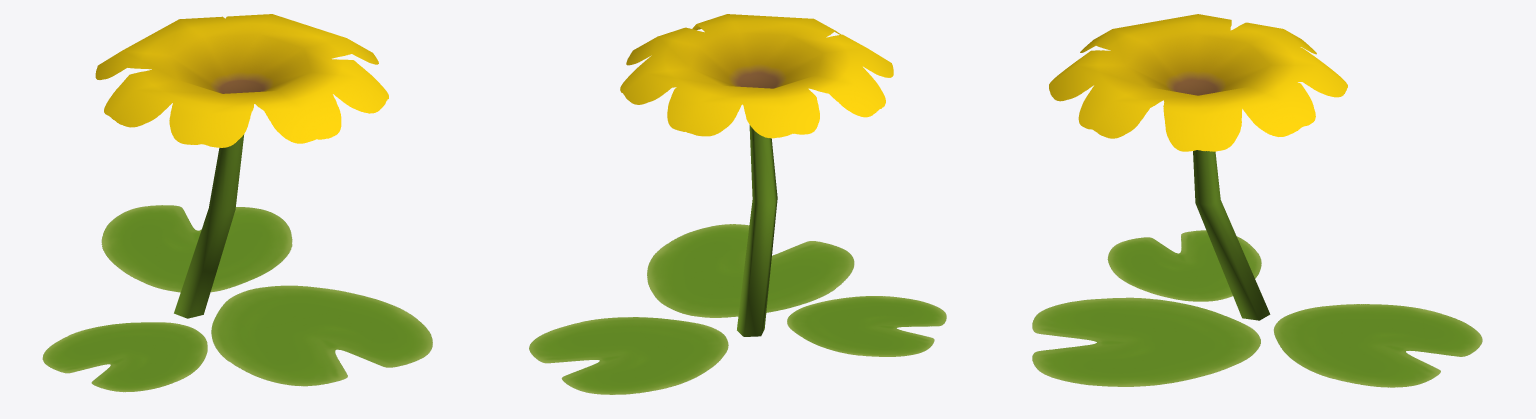
File: waterplant_1.fbx
3 renders of one model, left to right at view 1: azimuth 30°, elevation 25°; view 2: azimuth 150°, elevation 25°; view 3: azimuth 270°, elevation 25°, orthographic. The views are drawn at different scales.
Visible parts, largest first — view 1: water_plant_1; view 2: water_plant_1; view 3: water_plant_1.
Boxes of the visible parts, <box> form: water_plant_1: <box>42,14,432,392</box>; water_plant_1: <box>529,14,946,394</box>; water_plant_1: <box>1032,14,1482,387</box>.
Bounding box in the file's own units: 285 × 185 × 334.
